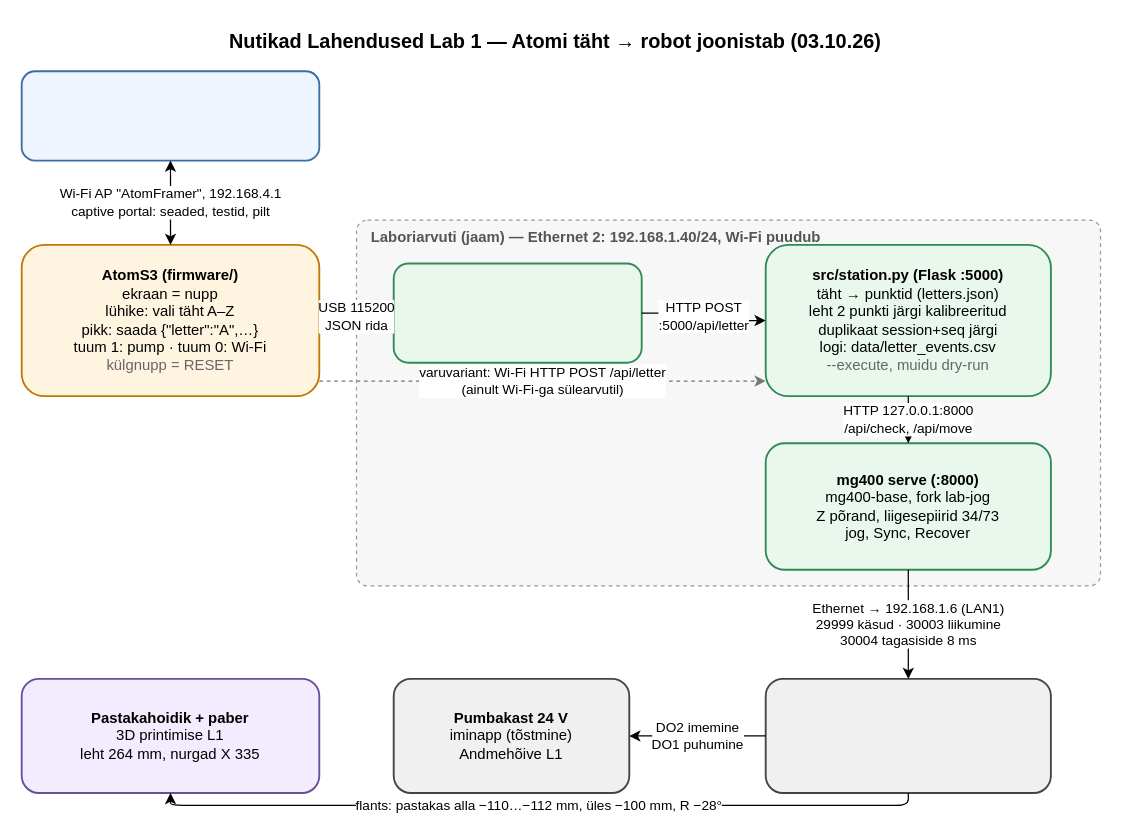
This 1123x837 diagram has some shape labels left out. Here are the shapes that lost their labels. From the top down, the centre of each, then its label:
At [170,115]: "Telefon Atomi leht avaneb ise".
At [517,312]: "src/atom_bridge.py loeb COM4 JSON rea (või logger.py --station)".
At [907,735]: "Dobot MG400 API-režiim, 192.168.1.6 ulatus 440 mm, hädastopp alusel".
